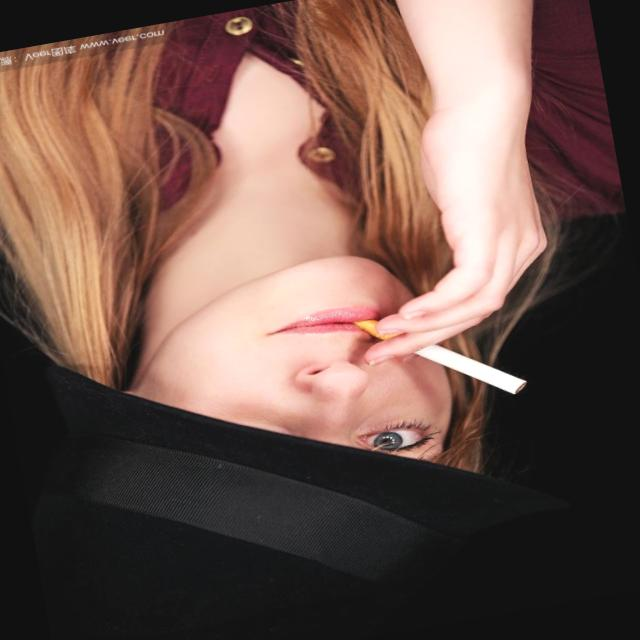smoke: (356, 285, 530, 420)
